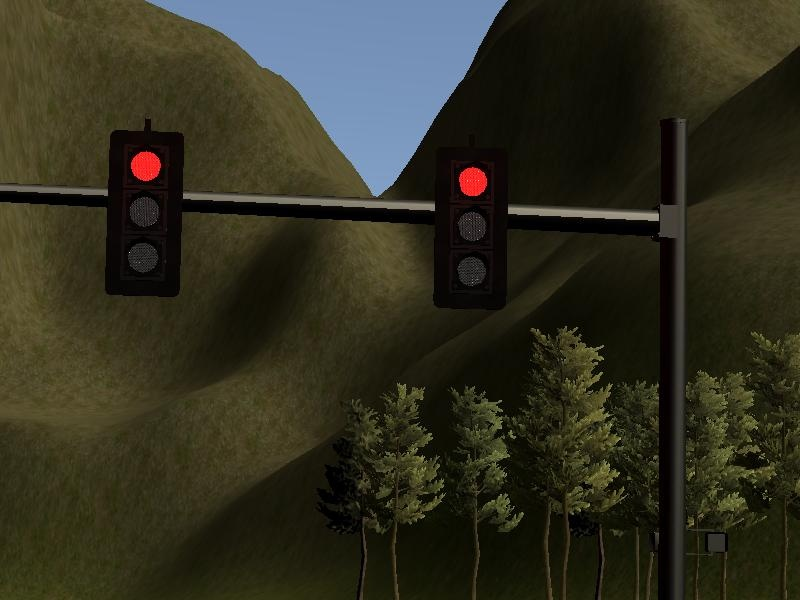red: (103, 125, 190, 302), (430, 148, 510, 315)
